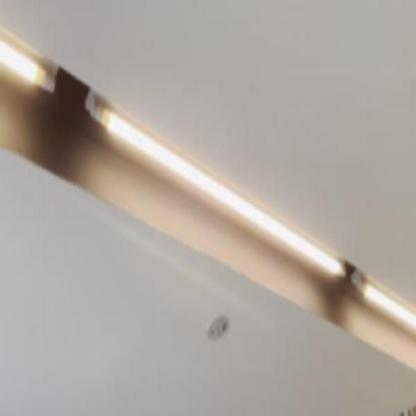light_on: (78, 83, 346, 291), (352, 246, 416, 384), (0, 0, 58, 111)
